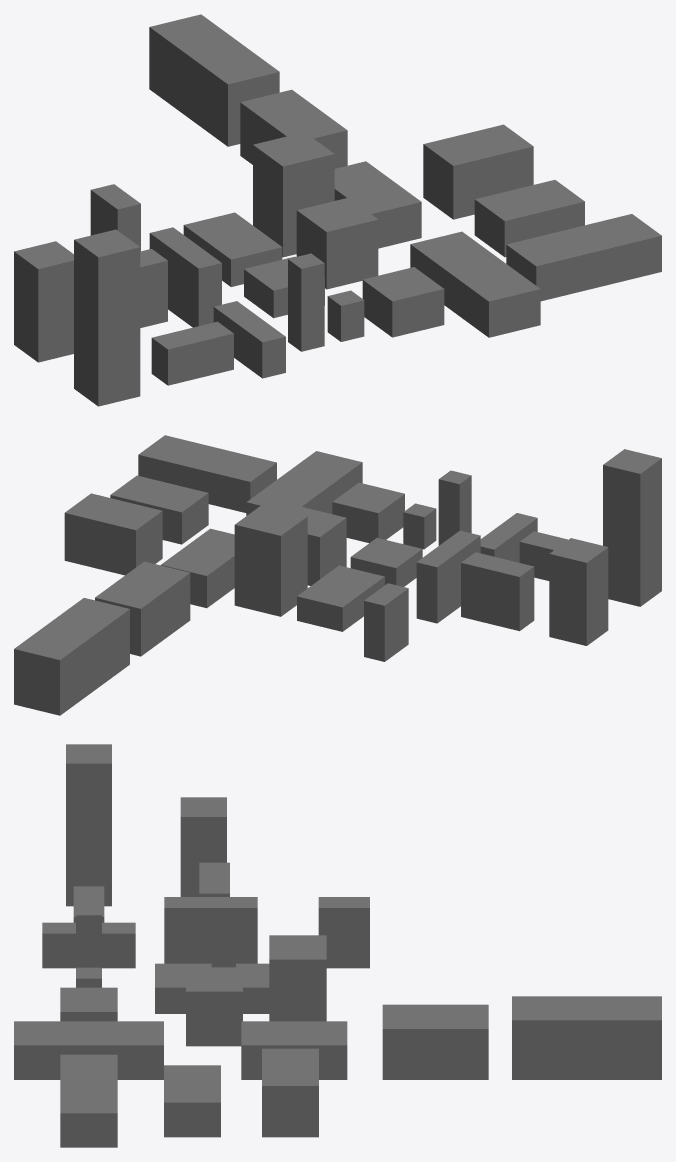
The model's file is Houses.fbx_Collection.fbx.
3 views of the same model, one above another, from view 1: azimuth 30°, elevation 25°; view 2: azimuth 150°, elevation 25°; view 3: azimuth 270°, elevation 25° (orthographic). The views are drawn at different scales.
Visible parts, largest first — view 1: HigherHouse, LongHouse.003, BroadHouse, LongHouse, BroadHouse.002, BigHouse.002, HigherHouse.001, BigHouse.001, BroadHouse.001, LongHouse.002, LongSmallerHouse.001, BigHouse (+9 smaller); view 2: LongHouse.003, HigherHouse, BigHouse.002, BroadHouse.002, BroadHouse, HigherHouse.001, LongHouse.002, BroadSmallerHouse.001, LongHouse, SmallerHouse.002, LongSmallerHouse.001, BroadHouse.001 (+9 smaller); view 3: LongHouse.003, LongHouse.002, LongHouse, HigherHouse, LongSmallerHouse.001, BroadHouse, BroadHouse.002, BigHouse.002, LongHouse.001, BigHouse.001, BroadHouse.001, HigherHouse.001 (+8 smaller).
Part boxes in pixels (<box>): HigherHouse: <box>74,229,140,406</box>; LongHouse.003: <box>149,14,279,146</box>; BroadHouse: <box>506,214,661,301</box>; LongHouse: <box>410,231,540,337</box>; BroadHouse.002: <box>423,124,533,219</box>; BigHouse.002: <box>253,132,334,257</box>; HigherHouse.001: <box>14,241,73,362</box>; BigHouse.001: <box>296,197,378,289</box>; BroadHouse.001: <box>474,180,584,257</box>; LongHouse.002: <box>240,89,347,168</box>; LongSmallerHouse.001: <box>149,227,221,327</box>; BigHouse: <box>362,267,444,337</box>; LongHouse.003: <box>14,598,129,715</box>; HigherHouse: <box>603,449,661,606</box>; BigHouse.002: <box>234,505,307,616</box>; BroadHouse.002: <box>64,493,162,575</box>; BroadHouse: <box>138,435,276,512</box>; HigherHouse.001: <box>549,538,608,645</box>; LongHouse.002: <box>95,561,190,656</box>; BroadSmallerHouse.001: <box>461,552,534,631</box>; LongHouse: <box>246,451,362,515</box>; SmallerHouse.002: <box>297,565,384,631</box>; LongSmallerHouse.001: <box>416,530,480,623</box>; BroadHouse.001: <box>110,475,208,544</box>; LongHouse.003: <box>512,996,661,1079</box>; LongHouse.002: <box>382,1004,488,1079</box>; LongHouse: <box>14,1021,163,1079</box>; HigherHouse: <box>66,744,111,906</box>; LongSmallerHouse.001: <box>164,897,257,967</box>; BroadHouse: <box>60,1054,117,1147</box>; BroadHouse.002: <box>262,1048,318,1137</box>; BigHouse.002: <box>269,935,326,1021</box>; LongHouse.001: <box>241,1021,347,1079</box>; BigHouse.001: <box>186,967,242,1046</box>; BroadHouse.001: <box>164,1065,220,1137</box>; HigherHouse.001: <box>180,797,226,896</box>.
Size of the model in its own units: 24009 by 6104 by 25173.
2 materials, 2 textured.
